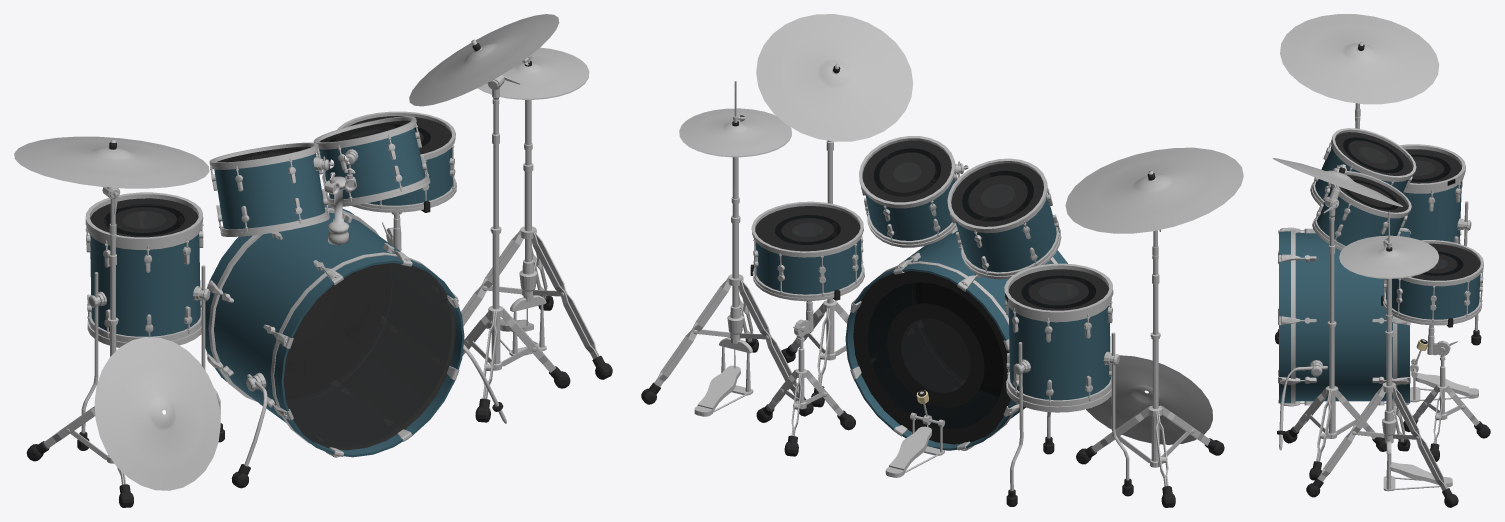
Rendered from bateria.glb.
The picture shows the model from 3 angles, left to right: view 1: azimuth 30°, elevation 25°; view 2: azimuth 150°, elevation 25°; view 3: azimuth 270°, elevation 25°; orthographic projection. The views are drawn at different scales.
Parts seen in each view (by area): view 1: Circle.003_Metal_0, Cylinder_Main Color_0, Cylinder_Black Glossy_0, Cylinder_Black transp_0, Circle.003_Black_0, Cylinder_Black Glossy.001_0; view 2: Circle.003_Metal_0, Cylinder_Main Color_0, Cylinder_Black transp_0, Cylinder_Black Glossy.001_0, Cylinder_Black Glossy_0, Circle.003_Black_0; view 3: Circle.003_Metal_0, Cylinder_Main Color_0, Cylinder_Black transp_0, Circle.003_Black_0, Cylinder_Black Glossy.001_0, Cylinder_Black Glossy_0.
Part boxes in pixels (bbox=[...]): Circle.003_Metal_0: bbox=[14, 14, 599, 490]; Cylinder_Main Color_0: bbox=[90, 128, 464, 457]; Cylinder_Black Glossy_0: bbox=[122, 129, 455, 450]; Cylinder_Black transp_0: bbox=[90, 116, 451, 237]; Circle.003_Black_0: bbox=[26, 43, 612, 507]; Cylinder_Black Glossy.001_0: bbox=[104, 123, 430, 235]; Circle.003_Metal_0: bbox=[654, 14, 1243, 490]; Cylinder_Main Color_0: bbox=[755, 158, 1110, 450]; Cylinder_Black transp_0: bbox=[755, 140, 1108, 444]; Cylinder_Black Glossy.001_0: bbox=[775, 148, 1096, 428]; Cylinder_Black Glossy_0: bbox=[792, 162, 1078, 392]; Circle.003_Black_0: bbox=[641, 66, 1224, 507]; Circle.003_Metal_0: bbox=[1272, 14, 1483, 491]; Cylinder_Main Color_0: bbox=[1279, 140, 1480, 403]; Cylinder_Black transp_0: bbox=[1335, 132, 1480, 280]; Circle.003_Black_0: bbox=[1275, 44, 1490, 507]; Cylinder_Black Glossy.001_0: bbox=[1343, 137, 1463, 275]; Cylinder_Black Glossy_0: bbox=[1359, 146, 1447, 269].
Bounding box in the file's own units: 3.08 × 1.88 × 1.22.
